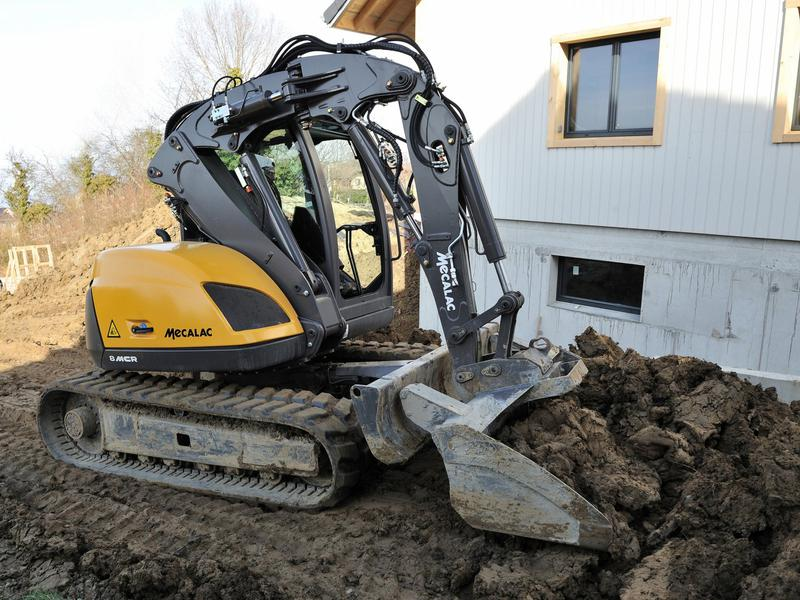shovel: (32, 30, 662, 559)
